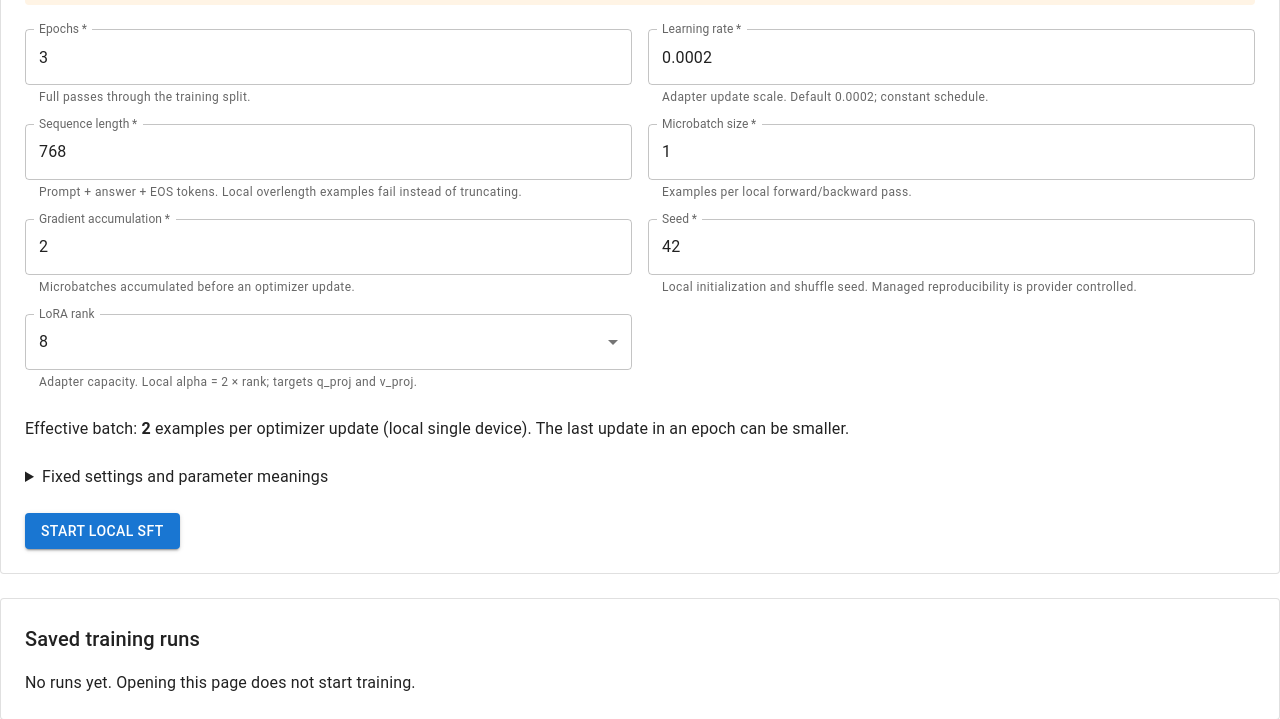
reports a non-JSON gateway response with its HTTP status
(page scrolled)
Click the button "Start local SFT".
click(102, 531)  # box [25,513,180,549]
(page scrolled)
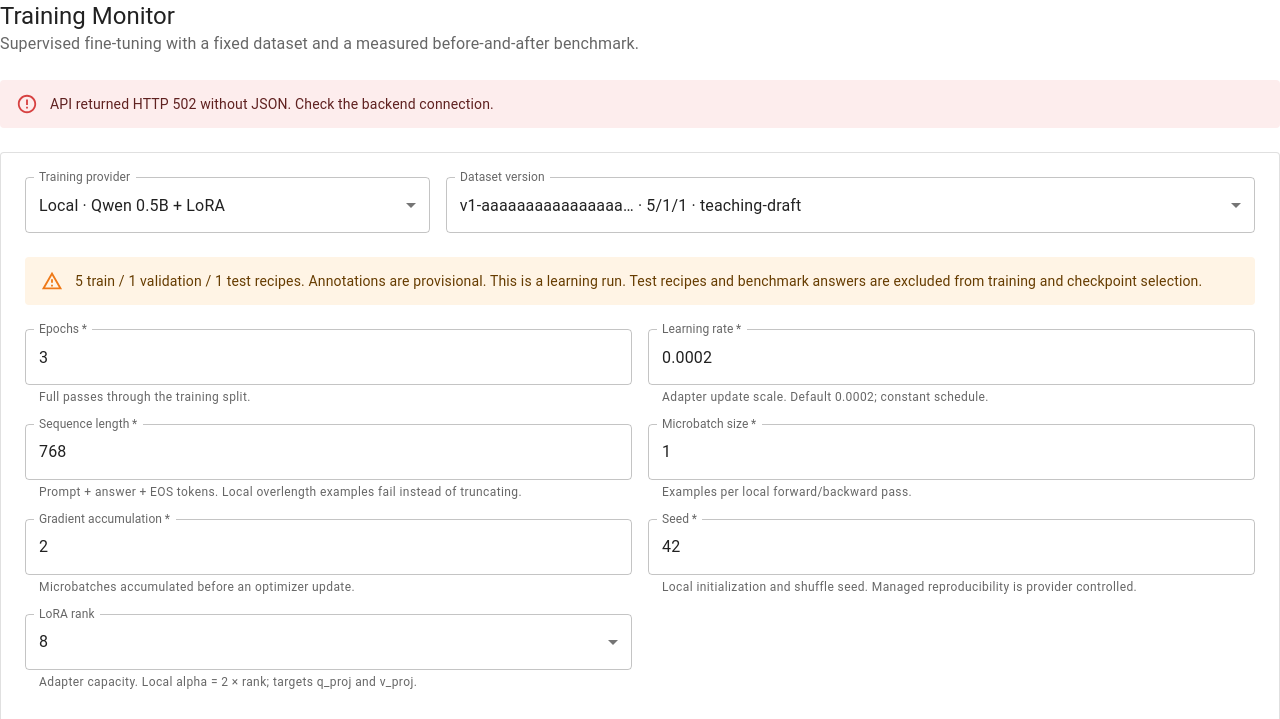
Result: the text "API returned HTTP 502 without JSON. Check the backend connection." is shown at [50,96,494,112]
